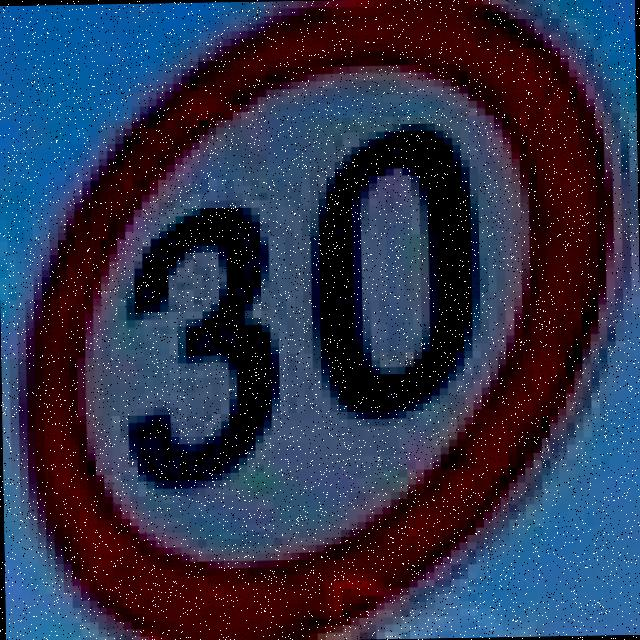Ograniczenie predkosci do 30: (3, 0, 595, 638)
